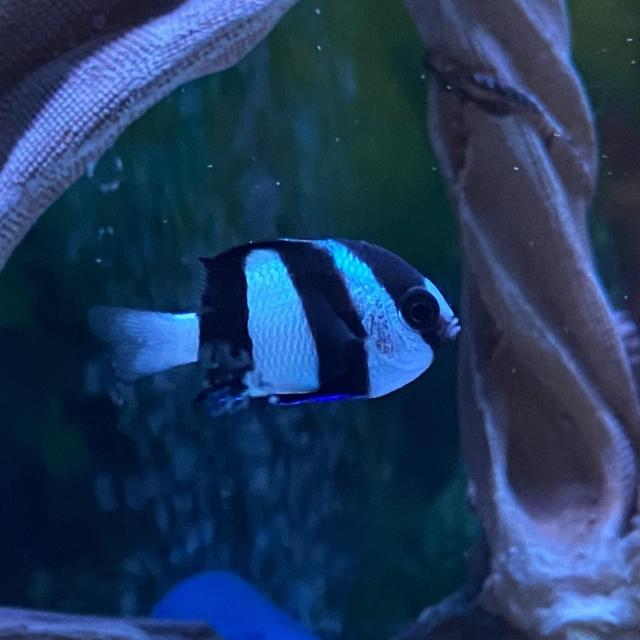ThreeStripedDamselfish: (93, 238, 461, 417)
